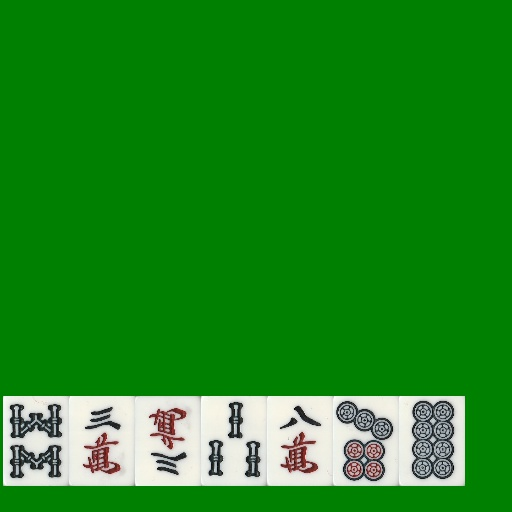3m: (69, 396, 135, 486), (135, 396, 201, 486)
3s: (201, 396, 267, 486)
7p: (333, 396, 399, 486)
8m: (267, 396, 333, 486)
8p: (399, 396, 465, 486)
8s: (3, 396, 69, 486)
